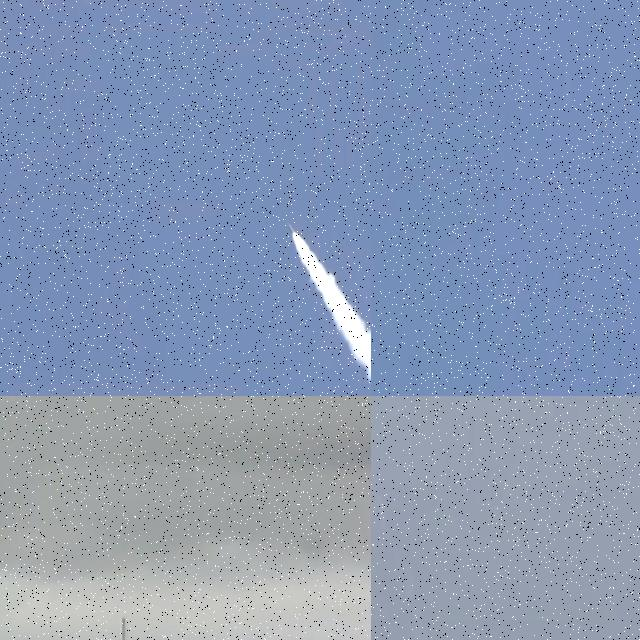Rocket: (118, 616, 130, 640), (288, 223, 295, 234), (371, 476, 373, 483)
